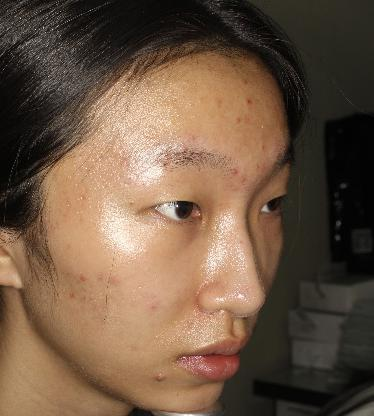Nodules: (150, 368, 169, 386)
acne scar: (240, 92, 258, 109), (74, 269, 91, 285), (65, 285, 78, 303), (105, 271, 116, 290), (234, 111, 242, 130)
